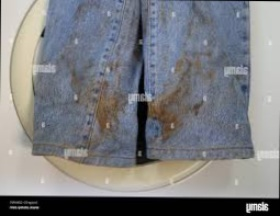earth: (149, 91, 182, 137), (91, 87, 122, 132)
